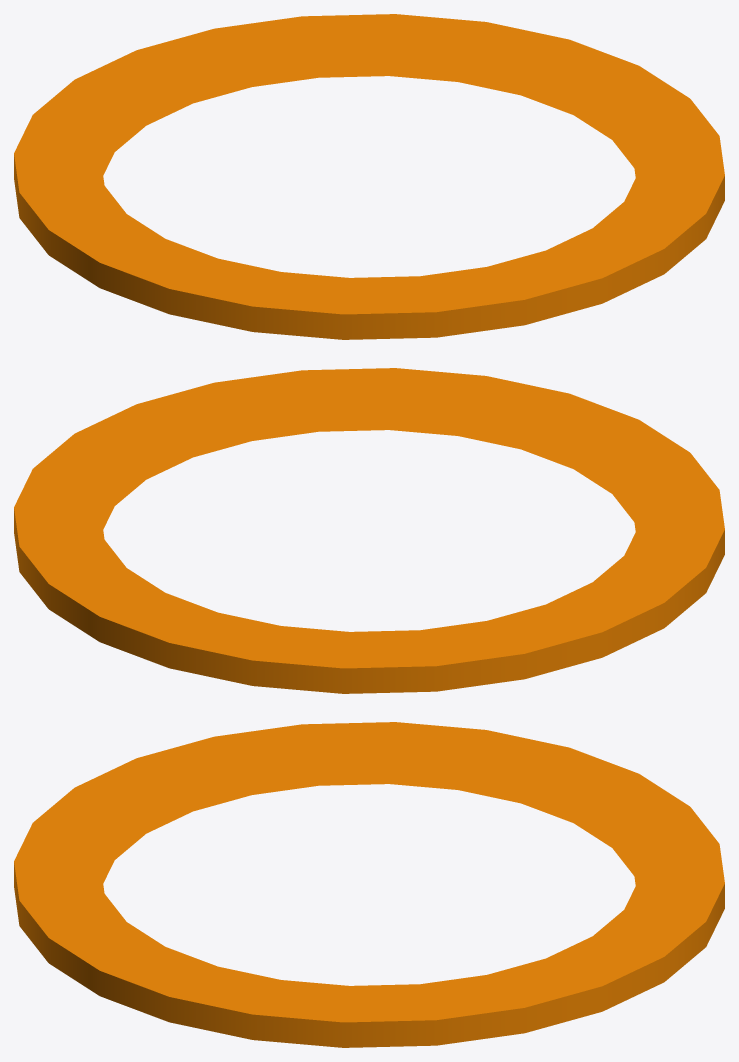
The model's file is original-29.obj.
3 renders of one model, top to bottom at view 1: azimuth 30°, elevation 25°; view 2: azimuth 150°, elevation 25°; view 3: azimuth 270°, elevation 25°, orthographic.
Visible parts, largest first — view 1: #ID142; view 2: #ID142; view 3: #ID142.
Part boxes in pixels (x1=…): #ID142: x1=14, y1=14, x2=724, y2=339; #ID142: x1=14, y1=368, x2=724, y2=693; #ID142: x1=14, y1=722, x2=724, y2=1047.
Bounding box in the file's own units: 0.1093 × 0.00432 × 0.1093.
